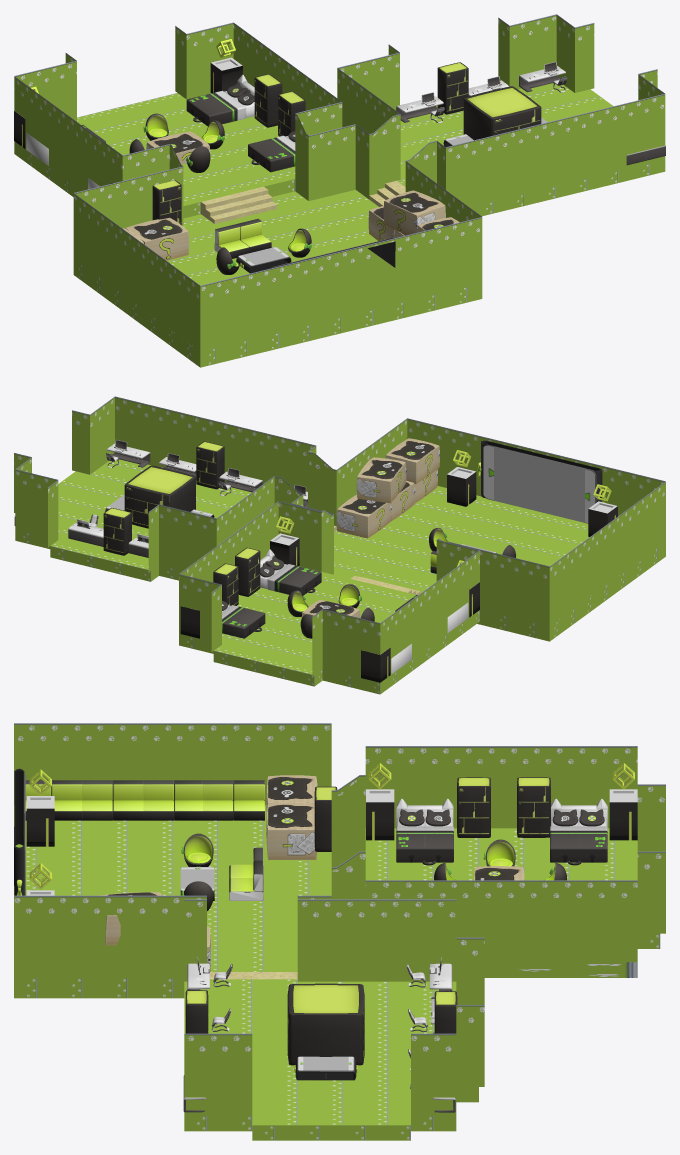
Rendered from dorm.obj.
3 views of the same model, one above another, from view 1: azimuth 30°, elevation 25°; view 2: azimuth 150°, elevation 25°; view 3: azimuth 270°, elevation 25° (orthographic). The views are drawn at different scales.
Visible parts, largest first — view 1: Body_崩3宿舍; view 2: Body_崩3宿舍; view 3: Body_崩3宿舍.
Part boxes in pixels (<box>): Body_崩3宿舍: <box>14,14,665,367</box>; Body_崩3宿舍: <box>14,396,665,694</box>; Body_崩3宿舍: <box>14,723,665,1140</box>.
Bounding box in the file's own units: 212 × 34.5 × 173.
